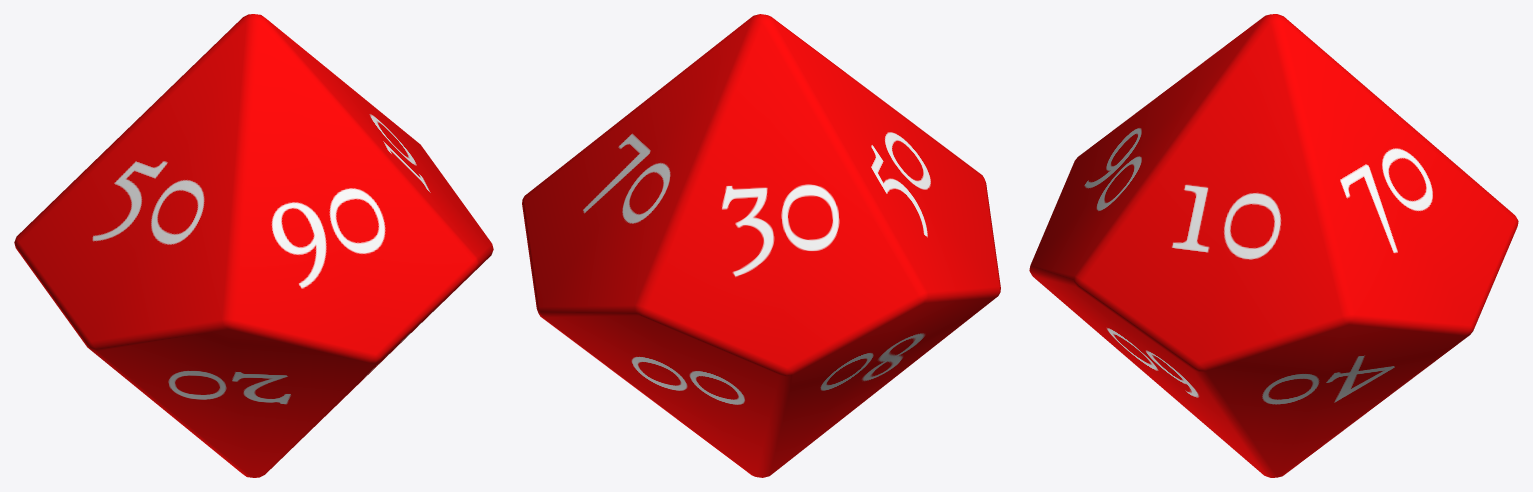
3 views of the same model, side by side, from view 1: azimuth 30°, elevation 25°; view 2: azimuth 150°, elevation 25°; view 3: azimuth 270°, elevation 25° (orthographic).
Parts seen in each view (by area): view 1: D100; view 2: D100; view 3: D100.
Boxes of the visible parts, <box> form: D100: <box>14,14,493,477</box>; D100: <box>522,14,1000,477</box>; D100: <box>1029,14,1518,477</box>.
Size of the model in its own units: 0.588 by 0.6442 by 0.6157.
1 material, 1 textured.
